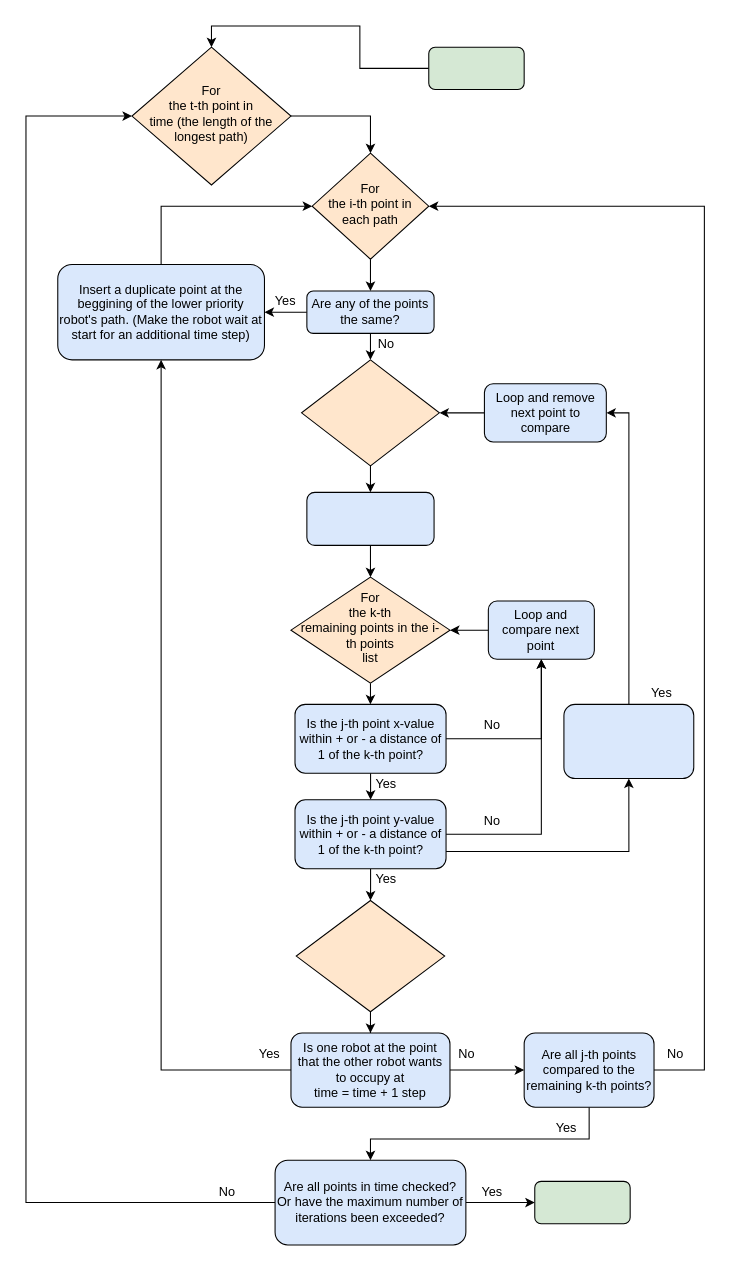
This 731x1264 diagram has some shape labels left out. The shapes that lost their labels are listed below. From the top down, each one's box as (x1, y1, x2, y2) in pixels, then its label:
(428, 46, 524, 90): Start collision avoidance
(301, 359, 439, 466): For the j-th point in the i-th points list
(306, 491, 434, 545): Remove the first point from the list of i-th points
(563, 703, 694, 779): Are all k-th points compared to the current j-thpoint?
(295, 899, 445, 1012): For each pair of robots at adjacent nodes
(534, 1180, 630, 1224): End collision avoidance
